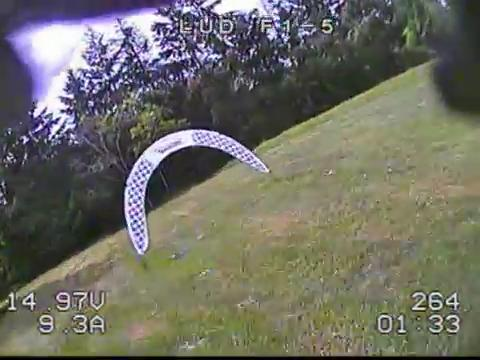gate: (121, 129, 273, 255)
